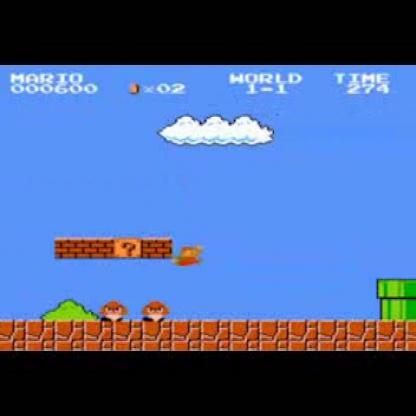Goomba: (141, 299, 171, 320), (101, 301, 126, 322)
